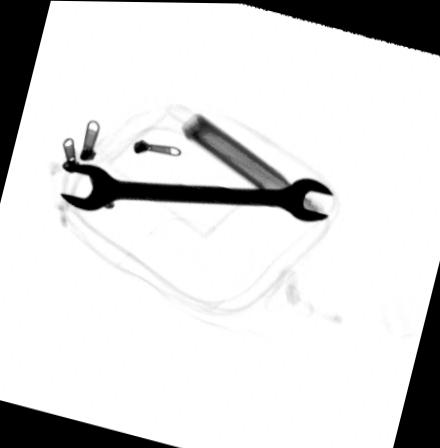Wrench: (56, 162, 334, 220)
